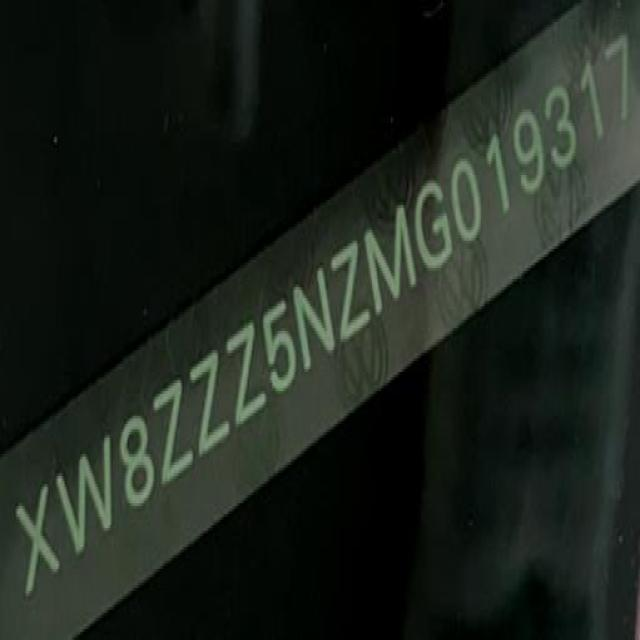0: (447, 148, 484, 253)
1: (481, 121, 517, 222), (580, 65, 607, 140)
3: (544, 85, 579, 165)
5: (265, 298, 297, 391)
7: (602, 29, 638, 122)
8: (117, 408, 160, 514)
9: (514, 112, 545, 194)
G: (412, 173, 456, 279)
M: (367, 209, 419, 318)
N: (293, 266, 335, 372)
W: (56, 433, 111, 555)
X: (15, 486, 60, 599)
Z: (154, 374, 194, 491), (330, 231, 370, 347), (227, 319, 267, 433), (192, 347, 231, 457)
